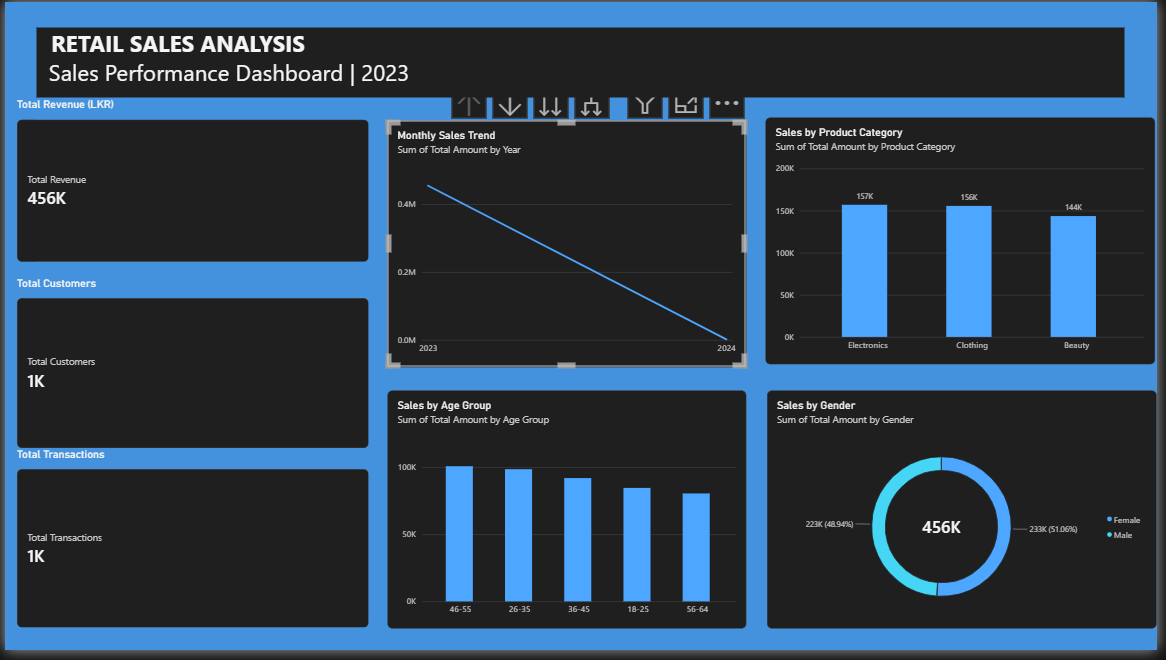

Layout of this report page (visuals, bound fields, positions):
{"tool":"powerbi","page":{"name":"Page 1","canvas":[1920,1080],"ordinal":0},"visuals":[{"type":"cardVisual","title":"Total Revenue (LKR)","fields":{"Data":["retail_sales_dataset cleaned.Total Revenue"]},"box":[19.8,161.6,586.8,209.8],"z":0},{"type":"cardVisual","title":"Total Customers","fields":{"Data":["retail_sales_dataset cleaned.Total Customers"]},"box":[19.8,399.7,586.8,226.8],"z":1000},{"type":"cardVisual","title":"Total Transactions","fields":{"Data":["retail_sales_dataset cleaned.Total Transactions"]},"box":[19.8,640.6,586.8,206.9],"z":2000},{"type":"columnChart","title":"Sales by Product Category","fields":{"Category":["retail_sales_dataset cleaned.Product Category"],"Y":["Sum(retail_sales_dataset cleaned.Total Amount)"]},"box":[1266.7,193.3,649.1,411],"z":3000},{"type":"lineChart","title":"Monthly Sales Trend","fields":{"Category":["retail_sales_dataset cleaned.Date.Variation.Date Hierarchy.Year","retail_sales_dataset cleaned.Date.Variation.Date Hierarchy.Quarter","retail_sales_dataset cleaned.Date.Variation.Date Hierarchy.Month"],"Y":["Sum(retail_sales_dataset cleaned.Total Amount)"]},"box":[636.7,196.7,598.1,411],"z":4000},{"type":"donutChart","title":"Sales by Gender","fields":{"Category":["retail_sales_dataset cleaned.Gender"],"Y":["Sum(retail_sales_dataset cleaned.Total Amount)"]},"box":[1270,646.7,649.1,396.9],"z":5000},{"type":"clusteredColumnChart","title":"Sales by Age Group","fields":{"Category":["retail_sales_dataset cleaned.Age Group"],"Y":["Sum(retail_sales_dataset cleaned.Total Amount)"]},"box":[636.7,646.7,598.1,396.9],"z":6000},{"type":"textbox","box":[53.3,43.3,1813.3,116.7],"z":7000}]}

Visuals, with their boxes in screenshot pixels (x1, y1, x2, y2):
"Total Revenue (LKR)" cardVisual: 15/94/366/219
"Total Customers" cardVisual: 15/236/366/372
"Total Transactions" cardVisual: 15/381/366/505
"Sales by Product Category" columnChart: 762/113/1150/359
"Monthly Sales Trend" lineChart: 384/115/743/361
"Sales by Gender" donutChart: 764/384/1152/622
"Sales by Age Group" clusteredColumnChart: 384/384/743/622
textbox: 35/23/1121/93
